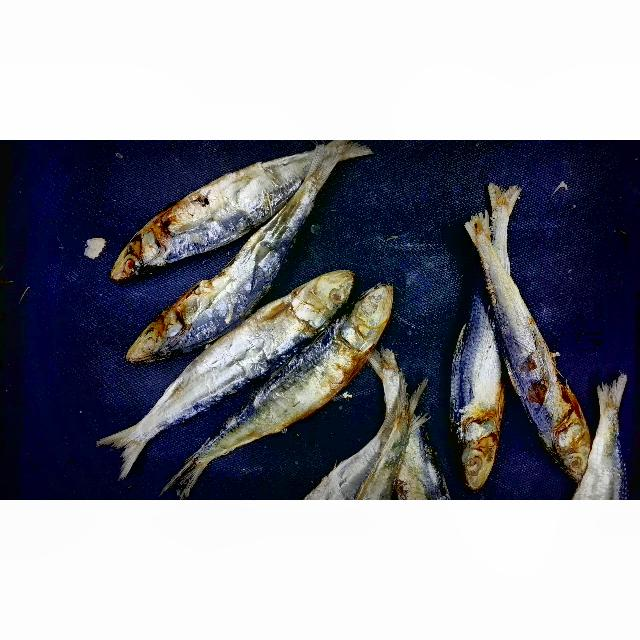Grade_B_Body: (484, 295, 593, 425), (173, 235, 299, 343), (259, 325, 354, 456), (164, 157, 289, 255), (186, 304, 299, 399), (444, 297, 513, 428)
Grade_B_Head: (559, 363, 640, 500), (454, 216, 540, 298), (99, 225, 180, 301), (282, 267, 366, 323), (335, 278, 394, 348), (531, 421, 600, 479), (117, 311, 182, 370), (449, 436, 502, 497)
Grade_B_Tail: (83, 377, 212, 469), (165, 404, 267, 500), (464, 163, 525, 291)
